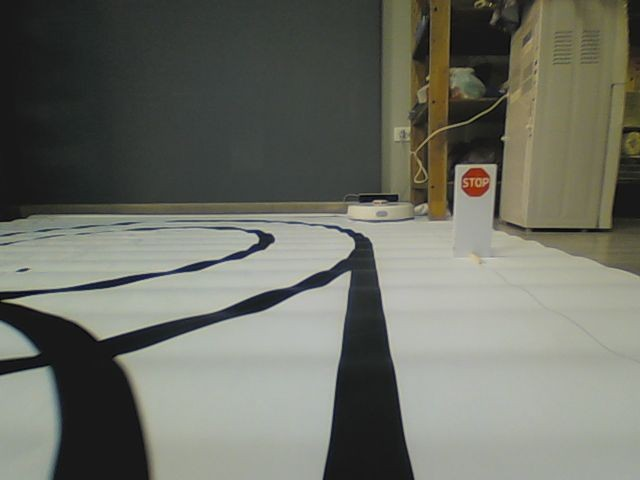Stop: (459, 165, 492, 196)
